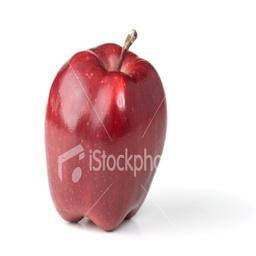apple: (43, 38, 168, 231)
